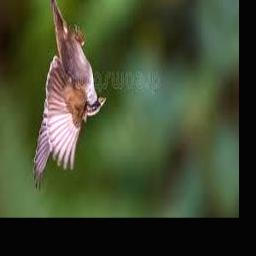Sparrow: (33, 0, 107, 191)
